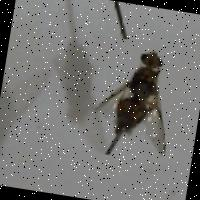Oriental-fruit-fly: (74, 34, 193, 166)
